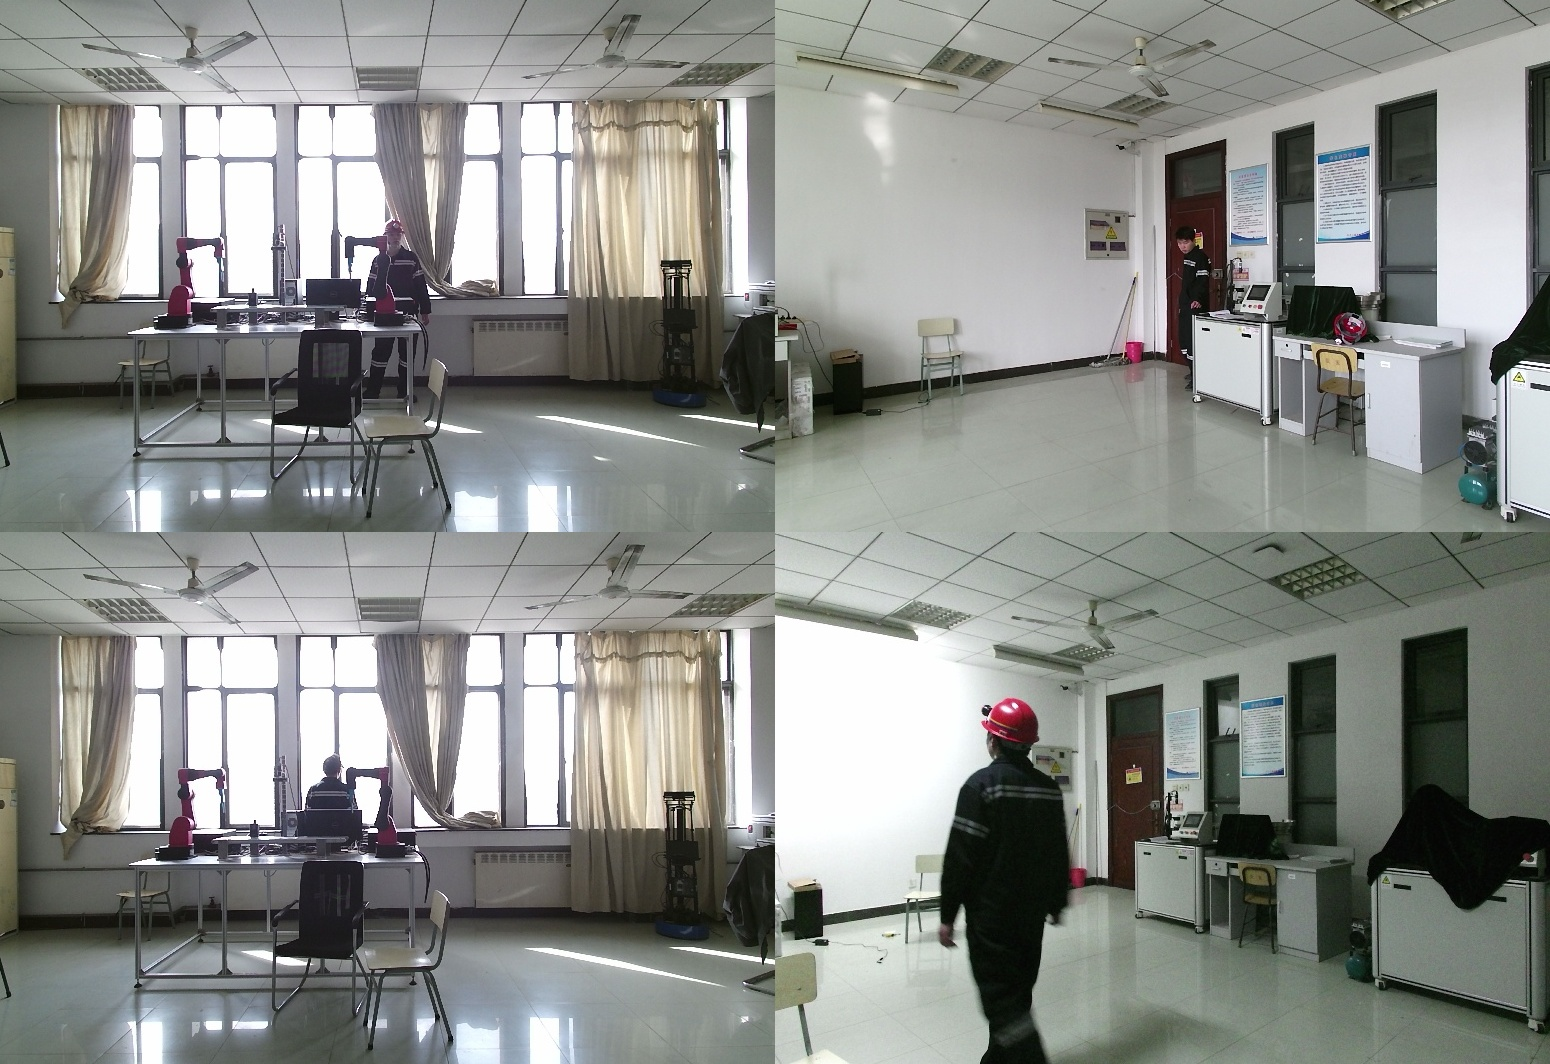person: (939, 699, 1080, 1064), (363, 220, 431, 400), (299, 754, 364, 841), (1176, 230, 1220, 318)
